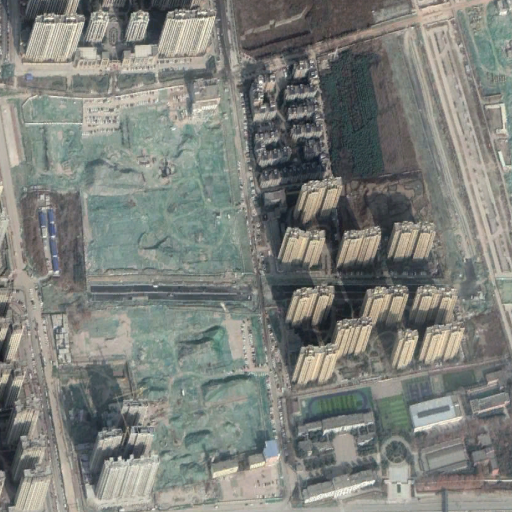cw: (16, 80, 255, 272), (68, 305, 277, 493)
